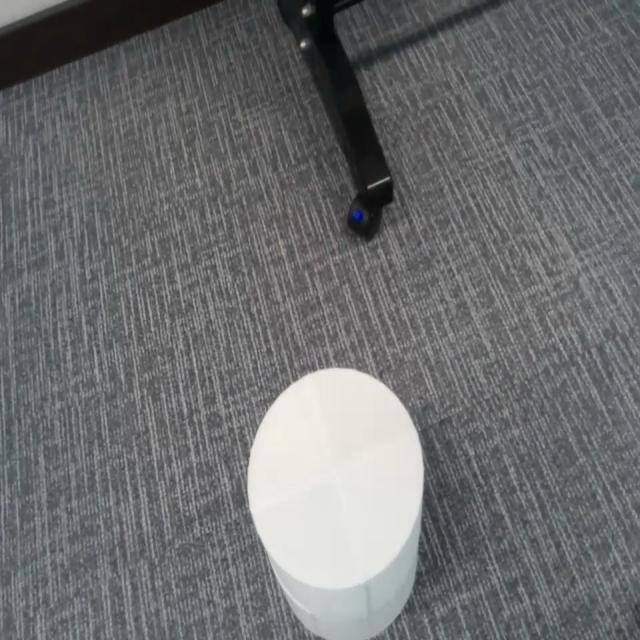cylinder: (245, 365, 426, 637)
